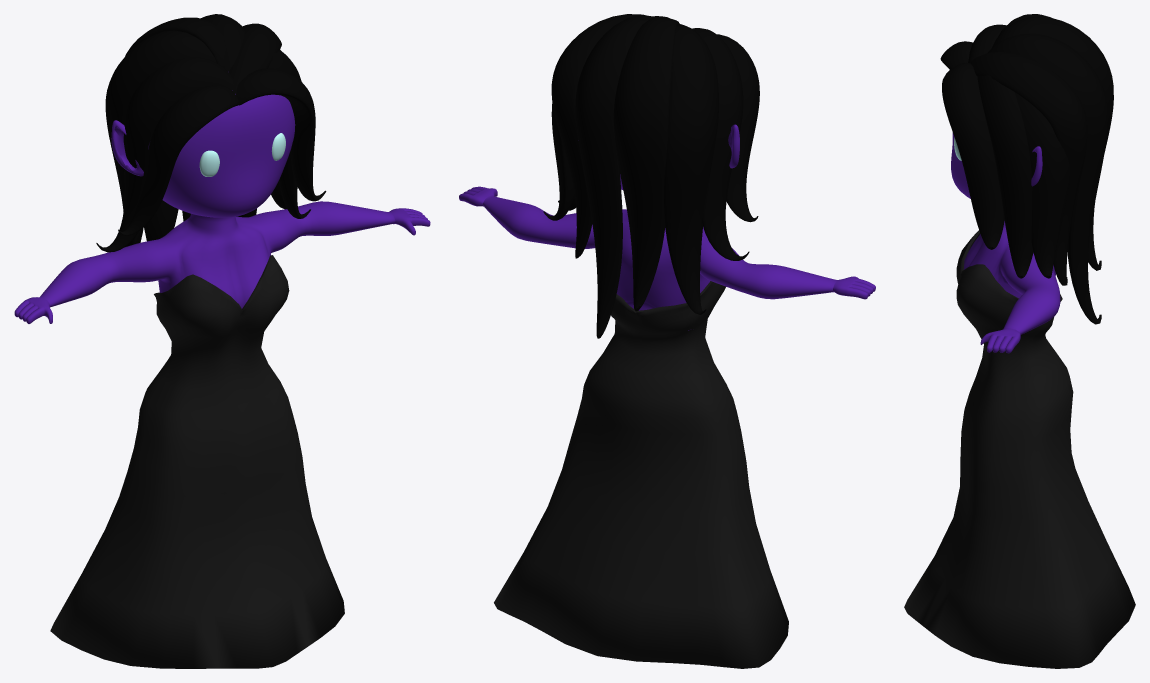
The model's file is Evangeline.glb.
3 renders of one model, left to right at view 1: azimuth 30°, elevation 25°; view 2: azimuth 150°, elevation 25°; view 3: azimuth 270°, elevation 25°, orthographic. The views are drawn at different scales.
Visible parts, largest first — view 1: Vestido, Cuerpo, Pelo, Ojos, Orejas; view 2: Vestido, Pelo, Cuerpo; view 3: Vestido, Pelo, Cuerpo.
Boxes of the visible parts, x1,y1,x2,y2 form: Vestido: [50, 255, 344, 668]; Cuerpo: [14, 90, 430, 323]; Pelo: [96, 14, 326, 252]; Ojos: [199, 133, 285, 176]; Orejas: [111, 120, 143, 176]; Vestido: [494, 281, 788, 668]; Pelo: [543, 14, 759, 338]; Cuerpo: [459, 140, 875, 330]; Vestido: [904, 230, 1135, 668]; Pelo: [940, 14, 1113, 324]; Cuerpo: [951, 132, 1060, 353].
Bounding box in the file's own units: 3 × 4.24 × 1.52.
